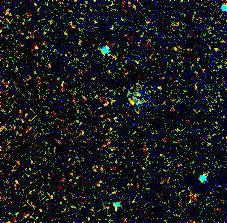star: (113, 89, 143, 119)
